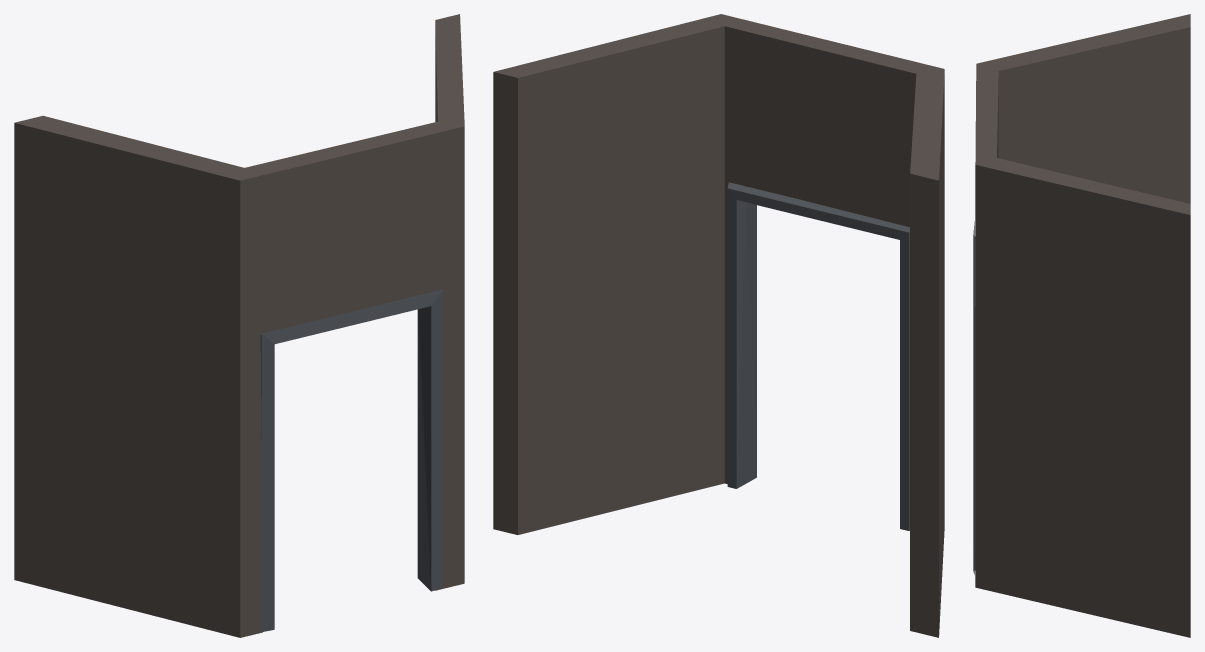
File: MCastle_SmallTurret_Int_02.FBX
The picture shows the model from 3 angles, left to right: view 1: azimuth 30°, elevation 25°; view 2: azimuth 150°, elevation 25°; view 3: azimuth 270°, elevation 25°; orthographic projection. The views are drawn at different scales.
Parts seen in each view (by area): view 1: MCastle_SmallTurret_Int_02_LOD0; view 2: MCastle_SmallTurret_Int_02_LOD0; view 3: MCastle_SmallTurret_Int_02_LOD0.
Part boxes in pixels (x1,y1,x2,y2): MCastle_SmallTurret_Int_02_LOD0: (14, 14, 464, 637); MCastle_SmallTurret_Int_02_LOD0: (493, 14, 944, 637); MCastle_SmallTurret_Int_02_LOD0: (973, 14, 1190, 637).
Size of what is drawn, in the model's own units: 4.59 by 4.5 by 2.09.
